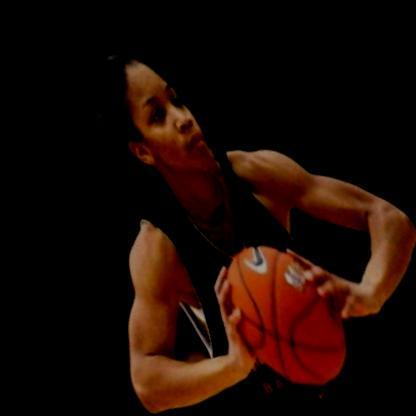basketball: (189, 219, 361, 401)
